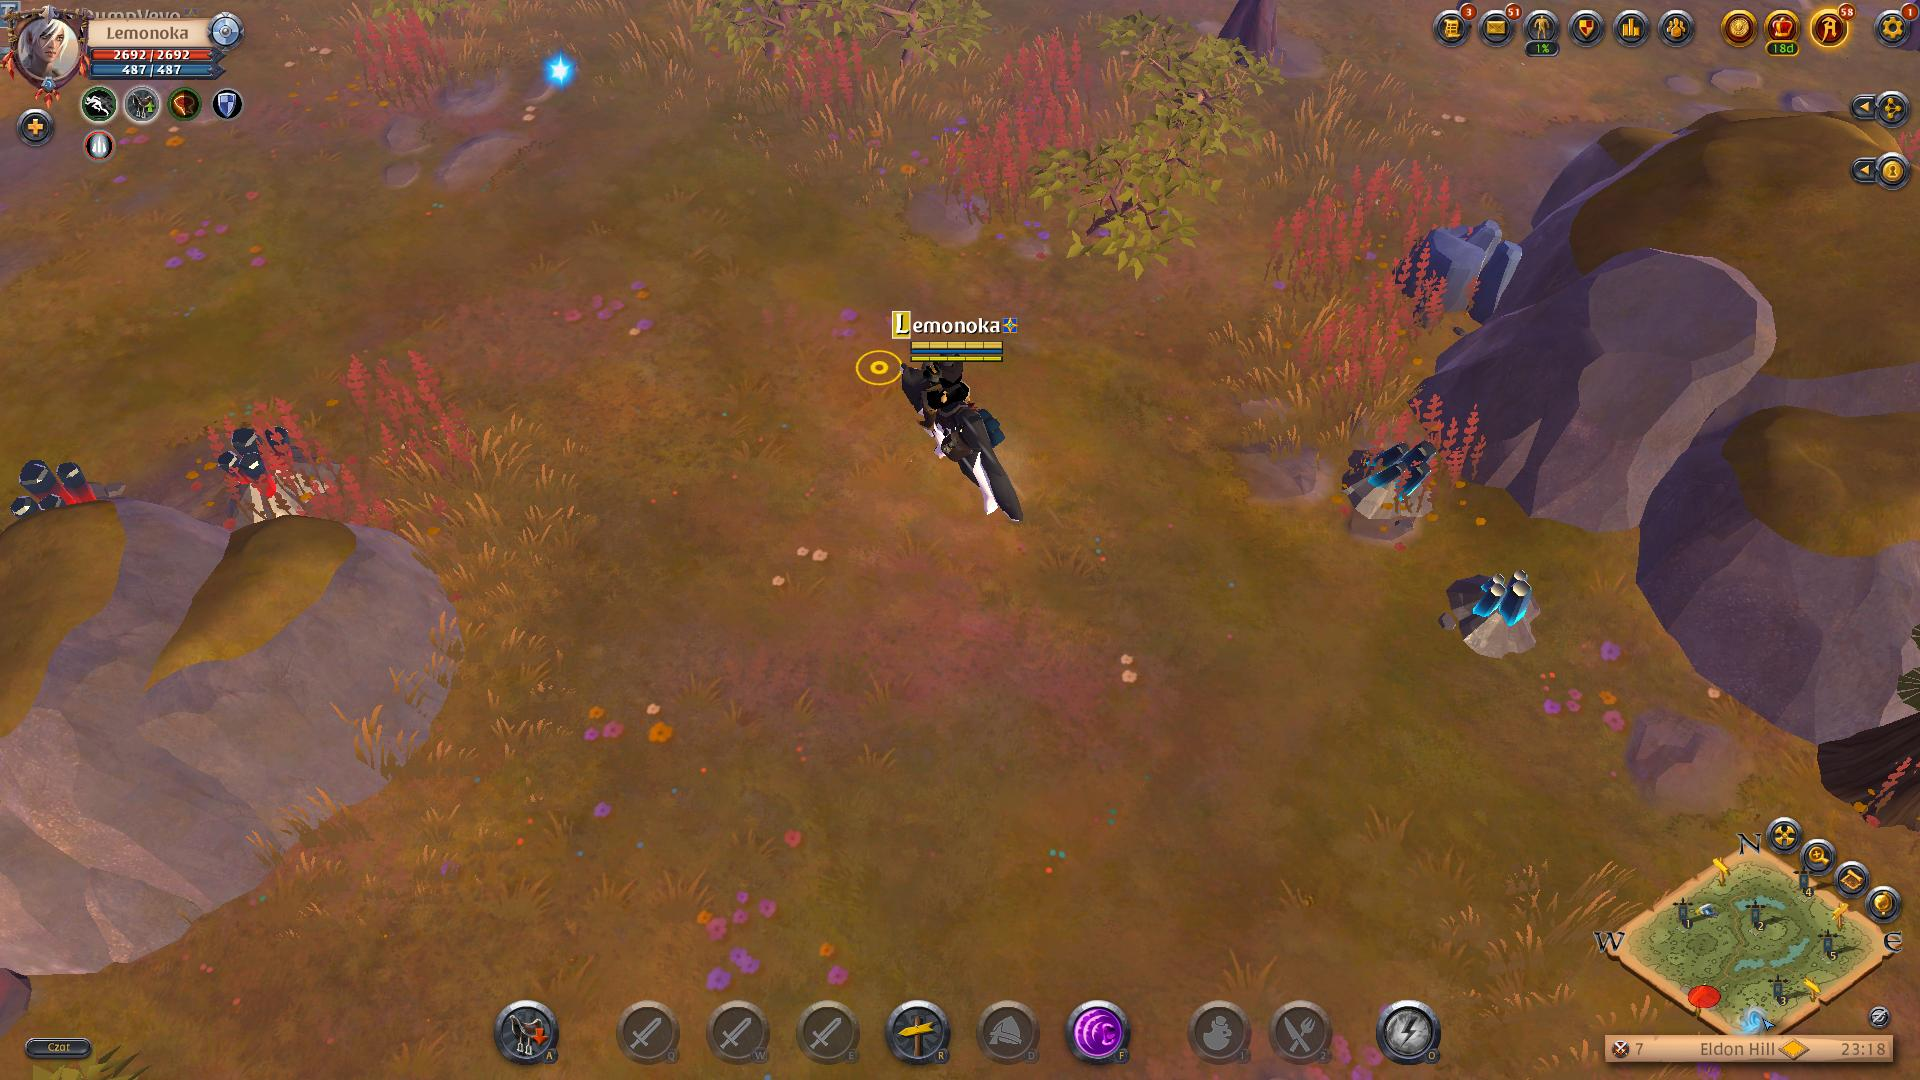ore tier 4: (1436, 562, 1553, 667), (1340, 436, 1444, 529)
ore tier 5: (215, 422, 332, 525)
rock tier 4: (1394, 214, 1534, 320)
